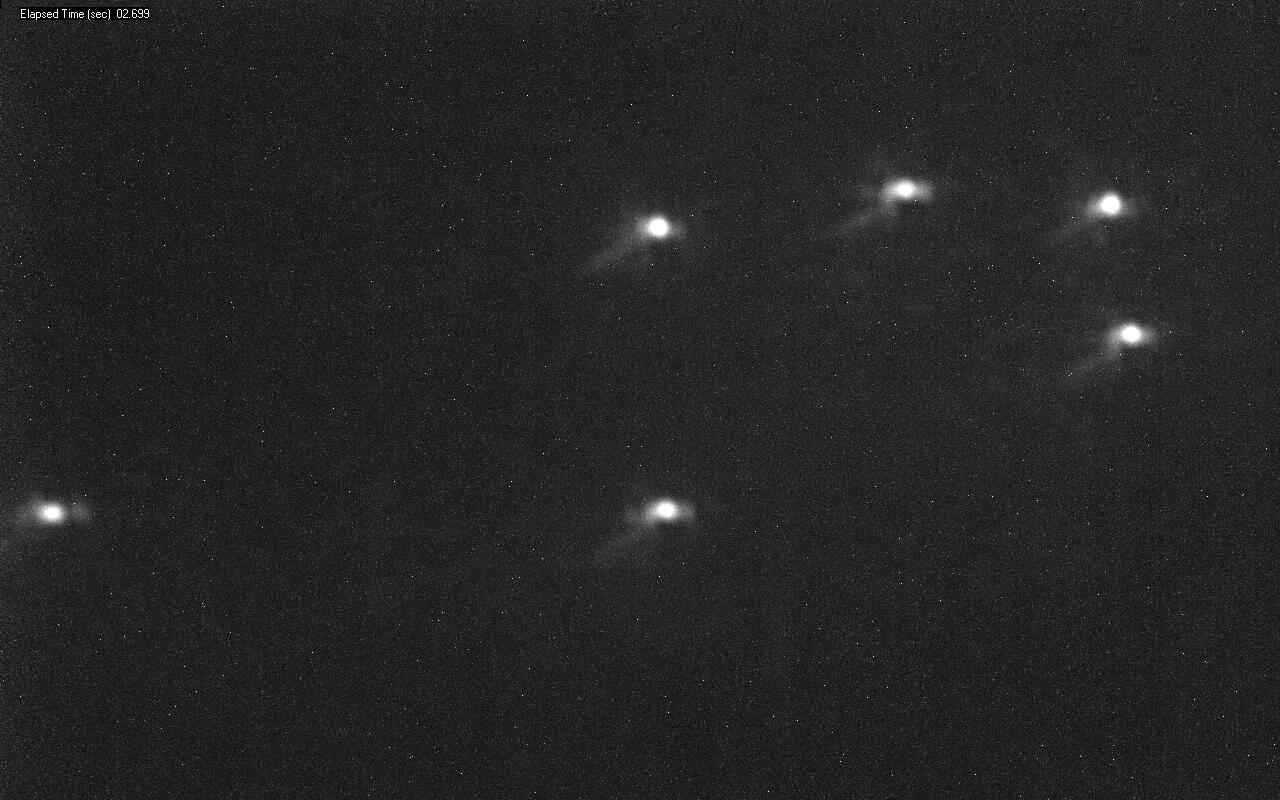Bead: (637, 497, 694, 526), (35, 501, 82, 525), (1113, 323, 1150, 346), (643, 216, 673, 239), (1095, 194, 1124, 217), (890, 181, 923, 199)
